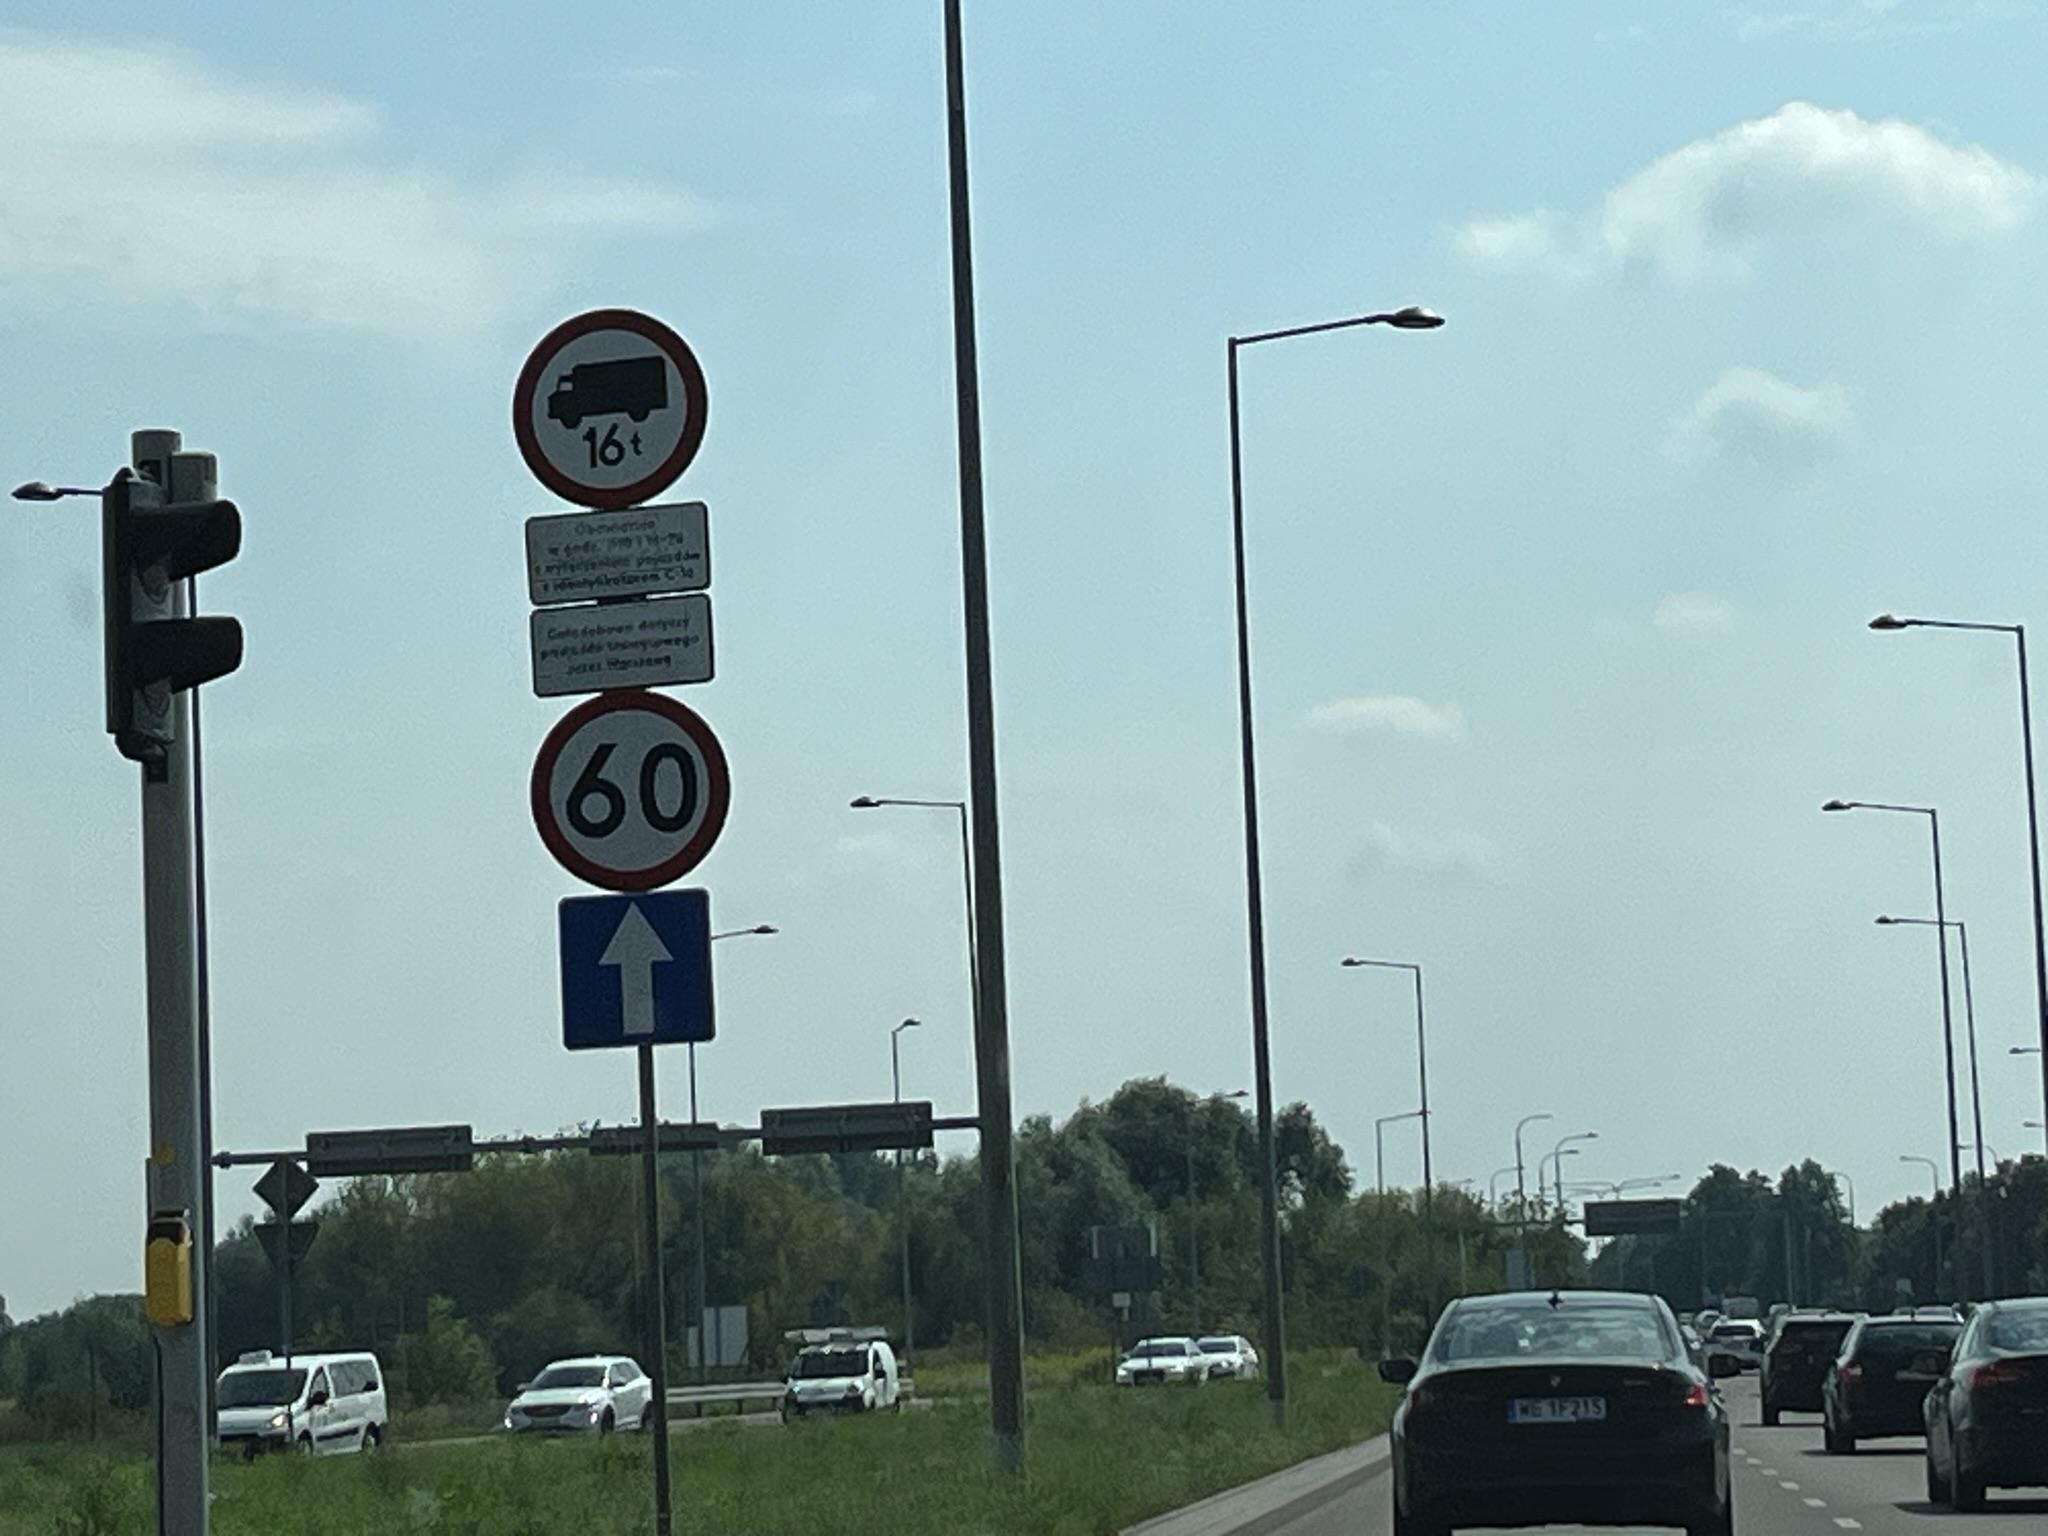information: (560, 895, 714, 1041)
prohibitory: (527, 687, 732, 891), (513, 303, 708, 511)
